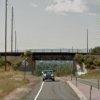Bridge: (21, 43, 86, 70)
